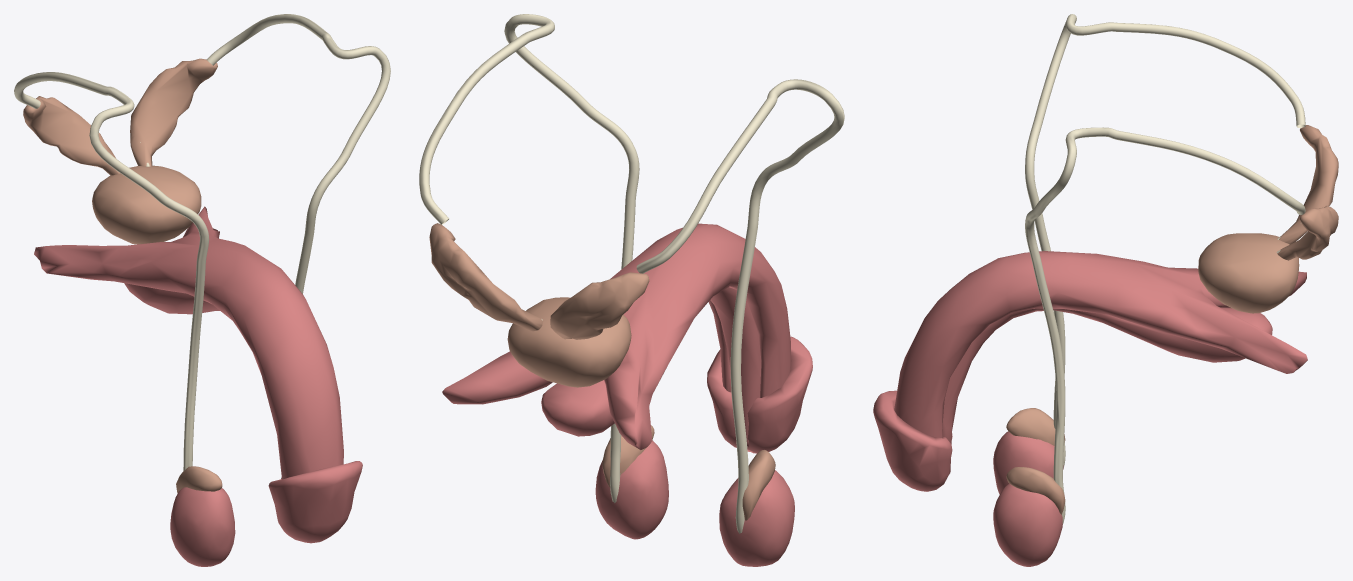
Rendered from adult_male.reproductive.LOD0.glb.
3 views of the same model, side by side, from view 1: azimuth 30°, elevation 25°; view 2: azimuth 150°, elevation 25°; view 3: azimuth 270°, elevation 25° (orthographic). The views are drawn at different scales.
Visible parts, largest first — view 1: ADULT.MALE.REPRODUCTIVE.CORPUS_CAVERNOSUM_OF_PENIS, ADULT.MALE.REPRODUCTIVE.PROSTATE, ADULT.MALE.REPRODUCTIVE.DUCTUS_DEFERENS.R, ADULT.MALE.REPRODUCTIVE.GLANS_PENIS, ADULT.MALE.REPRODUCTIVE.SEMINAL_GLAND.L, ADULT.MALE.REPRODUCTIVE.DUCTUS_DEFERENS.L, ADULT.MALE.REPRODUCTIVE.TESTIS, ADULT.MALE.REPRODUCTIVE.SEMINAL_GLAND.R, ADULT.MALE.REPRODUCTIVE.CORPUS_SPONGIOSUM_OF_PENIS, ADULT.MALE.REPRODUCTIVE.EPIDIDYMIS.R; view 2: ADULT.MALE.REPRODUCTIVE.CORPUS_CAVERNOSUM_OF_PENIS, ADULT.MALE.REPRODUCTIVE.DUCTUS_DEFERENS.R, ADULT.MALE.REPRODUCTIVE.DUCTUS_DEFERENS.L, ADULT.MALE.REPRODUCTIVE.PROSTATE, ADULT.MALE.REPRODUCTIVE.CORPUS_SPONGIOSUM_OF_PENIS, ADULT.MALE.REPRODUCTIVE.GLANS_PENIS, ADULT.MALE.REPRODUCTIVE.TESTIS, ADULT.MALE.REPRODUCTIVE.TESTIS.L, ADULT.MALE.REPRODUCTIVE.SEMINAL_GLAND.L, ADULT.MALE.REPRODUCTIVE.SEMINAL_GLAND.R, ADULT.MALE.REPRODUCTIVE.EPIDIDYMIS.R, ADULT.MALE.REPRODUCTIVE.EPIDIDYMIS.L; view 3: ADULT.MALE.REPRODUCTIVE.CORPUS_CAVERNOSUM_OF_PENIS, ADULT.MALE.REPRODUCTIVE.PROSTATE, ADULT.MALE.REPRODUCTIVE.DUCTUS_DEFERENS.L, ADULT.MALE.REPRODUCTIVE.DUCTUS_DEFERENS.R, ADULT.MALE.REPRODUCTIVE.CORPUS_SPONGIOSUM_OF_PENIS, ADULT.MALE.REPRODUCTIVE.GLANS_PENIS, ADULT.MALE.REPRODUCTIVE.TESTIS.L, ADULT.MALE.REPRODUCTIVE.SEMINAL_GLAND.R, ADULT.MALE.REPRODUCTIVE.TESTIS, ADULT.MALE.REPRODUCTIVE.SEMINAL_GLAND.L, ADULT.MALE.REPRODUCTIVE.EPIDIDYMIS.L, ADULT.MALE.REPRODUCTIVE.EPIDIDYMIS.R.
Part boxes in pixels (left/top/right/bottom): ADULT.MALE.REPRODUCTIVE.CORPUS_CAVERNOSUM_OF_PENIS: left=34, top=206, right=343, bottom=479; ADULT.MALE.REPRODUCTIVE.PROSTATE: left=92, top=165, right=201, bottom=244; ADULT.MALE.REPRODUCTIVE.DUCTUS_DEFERENS.R: left=14, top=72, right=209, bottom=470; ADULT.MALE.REPRODUCTIVE.GLANS_PENIS: left=268, top=461, right=362, bottom=543; ADULT.MALE.REPRODUCTIVE.SEMINAL_GLAND.L: left=130, top=58, right=217, bottom=166; ADULT.MALE.REPRODUCTIVE.DUCTUS_DEFERENS.L: left=206, top=14, right=390, bottom=293; ADULT.MALE.REPRODUCTIVE.TESTIS: left=170, top=487, right=235, bottom=566; ADULT.MALE.REPRODUCTIVE.SEMINAL_GLAND.R: left=23, top=96, right=119, bottom=175; ADULT.MALE.REPRODUCTIVE.CORPUS_SPONGIOSUM_OF_PENIS: left=124, top=283, right=219, bottom=314; ADULT.MALE.REPRODUCTIVE.EPIDIDYMIS.R: left=176, top=466, right=222, bottom=493; ADULT.MALE.REPRODUCTIVE.CORPUS_CAVERNOSUM_OF_PENIS: left=442, top=223, right=790, bottom=449; ADULT.MALE.REPRODUCTIVE.DUCTUS_DEFERENS.R: left=636, top=79, right=844, bottom=533; ADULT.MALE.REPRODUCTIVE.DUCTUS_DEFERENS.L: left=419, top=14, right=639, bottom=503; ADULT.MALE.REPRODUCTIVE.PROSTATE: left=507, top=297, right=631, bottom=387; ADULT.MALE.REPRODUCTIVE.CORPUS_SPONGIOSUM_OF_PENIS: left=541, top=287, right=761, bottom=447; ADULT.MALE.REPRODUCTIVE.GLANS_PENIS: left=707, top=336, right=812, bottom=453; ADULT.MALE.REPRODUCTIVE.TESTIS: left=719, top=470, right=794, bottom=566; ADULT.MALE.REPRODUCTIVE.TESTIS.L: left=595, top=440, right=668, bottom=539; ADULT.MALE.REPRODUCTIVE.SEMINAL_GLAND.L: left=429, top=223, right=543, bottom=331; ADULT.MALE.REPRODUCTIVE.SEMINAL_GLAND.R: left=550, top=272, right=649, bottom=339; ADULT.MALE.REPRODUCTIVE.EPIDIDYMIS.R: left=742, top=450, right=775, bottom=520; ADULT.MALE.REPRODUCTIVE.EPIDIDYMIS.L: left=602, top=425, right=654, bottom=487; ADULT.MALE.REPRODUCTIVE.CORPUS_CAVERNOSUM_OF_PENIS: left=894, top=251, right=1307, bottom=438; ADULT.MALE.REPRODUCTIVE.PROSTATE: left=1198, top=233, right=1299, bottom=313; ADULT.MALE.REPRODUCTIVE.DUCTUS_DEFERENS.L: left=1025, top=127, right=1305, bottom=524; ADULT.MALE.REPRODUCTIVE.DUCTUS_DEFERENS.R: left=1025, top=14, right=1305, bottom=468; ADULT.MALE.REPRODUCTIVE.CORPUS_SPONGIOSUM_OF_PENIS: left=942, top=307, right=1272, bottom=474; ADULT.MALE.REPRODUCTIVE.GLANS_PENIS: left=873, top=390, right=952, bottom=491; ADULT.MALE.REPRODUCTIVE.TESTIS.L: left=993, top=483, right=1062, bottom=566; ADULT.MALE.REPRODUCTIVE.SEMINAL_GLAND.R: left=1279, top=125, right=1338, bottom=244; ADULT.MALE.REPRODUCTIVE.TESTIS: left=993, top=431, right=1063, bottom=494; ADULT.MALE.REPRODUCTIVE.SEMINAL_GLAND.L: left=1277, top=206, right=1338, bottom=260; ADULT.MALE.REPRODUCTIVE.EPIDIDYMIS.L: left=1006, top=467, right=1065, bottom=514; ADULT.MALE.REPRODUCTIVE.EPIDIDYMIS.R: left=1006, top=408, right=1065, bottom=445.
Size of the model in its own units: 0.1123 by 0.1655 by 0.151.
